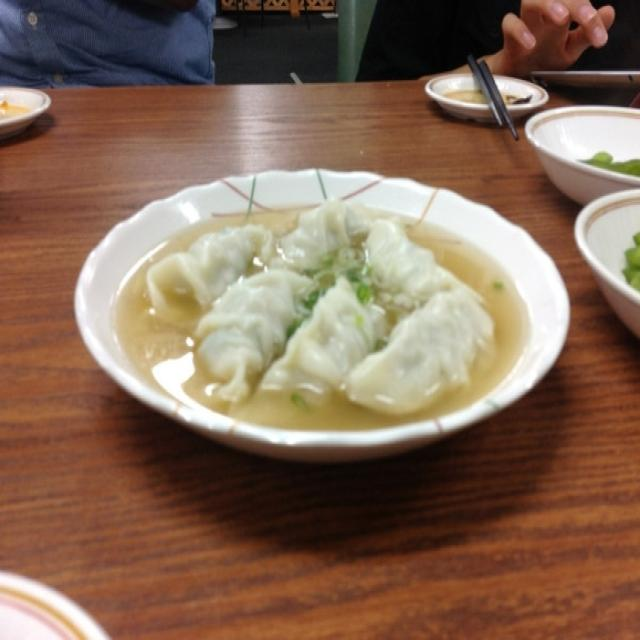带馅早点: (75, 159, 557, 450)
